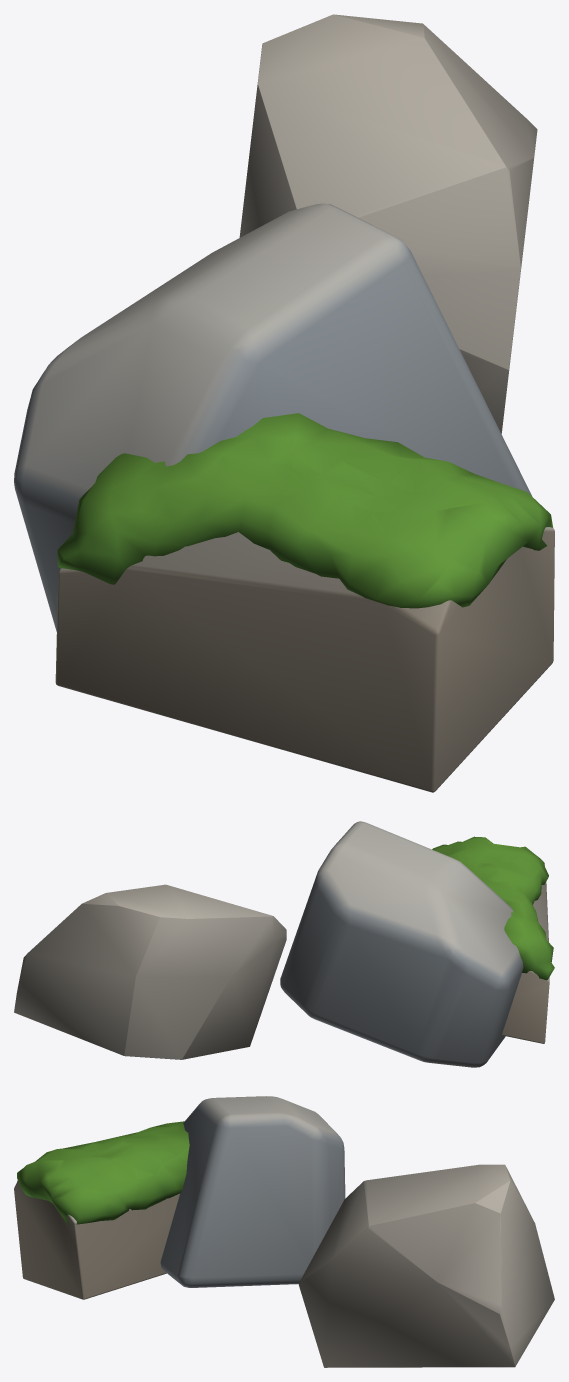
Rendered from glade_rubble_a.glb.
3 renders of one model, top to bottom at view 1: azimuth 30°, elevation 25°; view 2: azimuth 150°, elevation 25°; view 3: azimuth 270°, elevation 25°, orthographic. The views are drawn at different scales.
Visible parts, largest first — view 1: glade_rubble_a, moss; view 2: glade_rubble_a, moss; view 3: glade_rubble_a, moss.
Boxes of the visible parts, bbox=[...] form: glade_rubble_a: bbox=[14, 14, 554, 792]; moss: bbox=[57, 413, 553, 608]; glade_rubble_a: bbox=[14, 821, 549, 1067]; moss: bbox=[432, 836, 554, 980]; glade_rubble_a: bbox=[14, 1096, 554, 1367]; moss: bbox=[17, 1121, 189, 1225].
Size of the model in its own units: 3.7 by 1.76 by 4.29.
